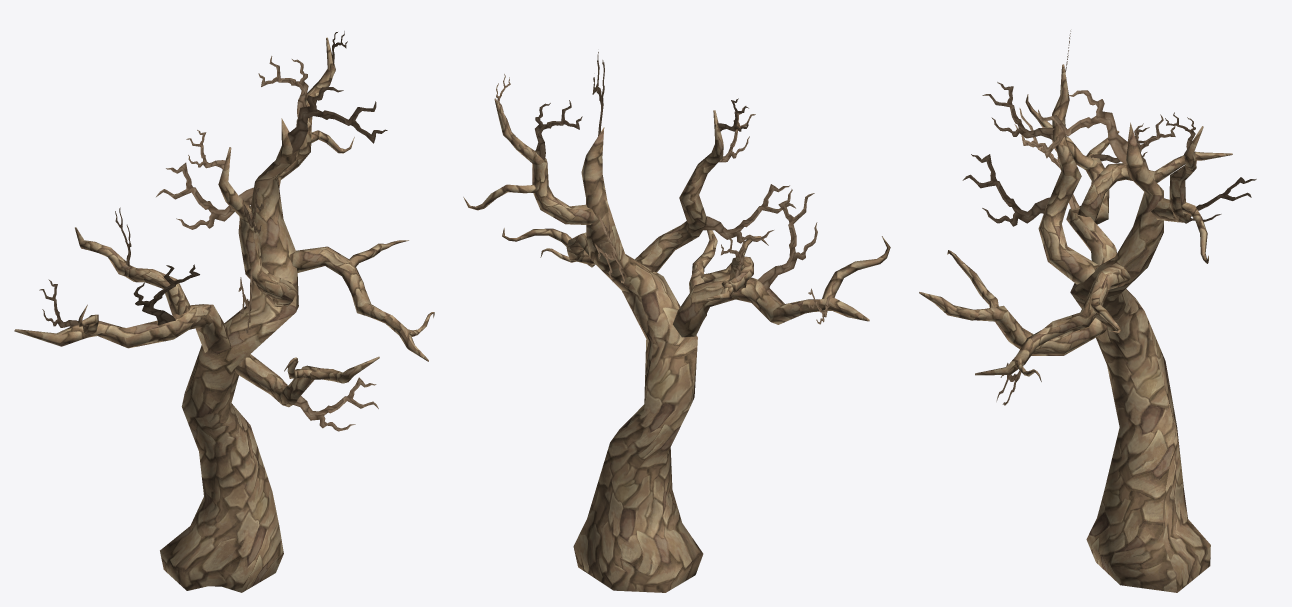
The model's file is dead tree.FBX.
The picture shows the model from 3 angles, left to right: view 1: azimuth 30°, elevation 25°; view 2: azimuth 150°, elevation 25°; view 3: azimuth 270°, elevation 25°; orthographic projection. The views are drawn at different scales.
Parts seen in each view (by area): view 1: dead tree; view 2: dead tree; view 3: dead tree.
Boxes of the visible parts, x1,y1,x2,y2 form: dead tree: (14,31,434,592); dead tree: (463,52,890,592); dead tree: (919,30,1256,592).
Size of the model in its own units: 8.64 by 11.31 by 6.6.
